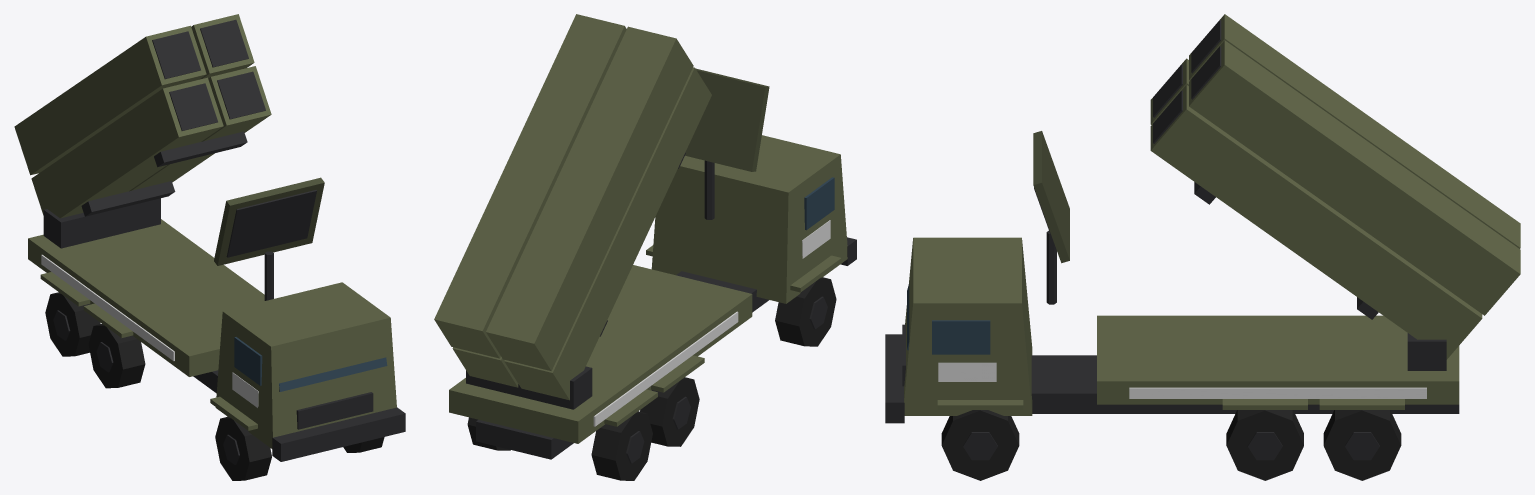
File: sam.glb
The picture shows the model from 3 angles, left to right: view 1: azimuth 30°, elevation 25°; view 2: azimuth 150°, elevation 25°; view 3: azimuth 270°, elevation 25°; orthographic projection. The views are drawn at different scales.
Visible parts, largest first — view 1: Body; view 2: Body; view 3: Body.
Part boxes in pixels (x1,y1,x2,y2): Body: [14, 14, 405, 480]; Body: [434, 14, 856, 480]; Body: [885, 14, 1520, 480].
Size of the model in its own units: 2.87 by 6.89 by 9.82.
